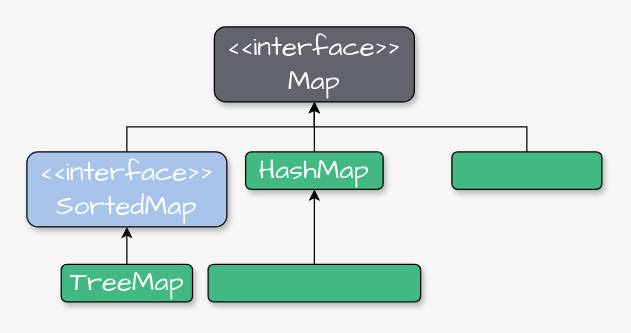
The diagram is 631 pixels wide and 333 high, and some of its shapes have lost their labels. The shapes that lost their labels are listed below. From the top down, each one's centre as x and y in pixels, then its label:
pixel 527 172: HashTable
pixel 315 284: LinkedHashMap
